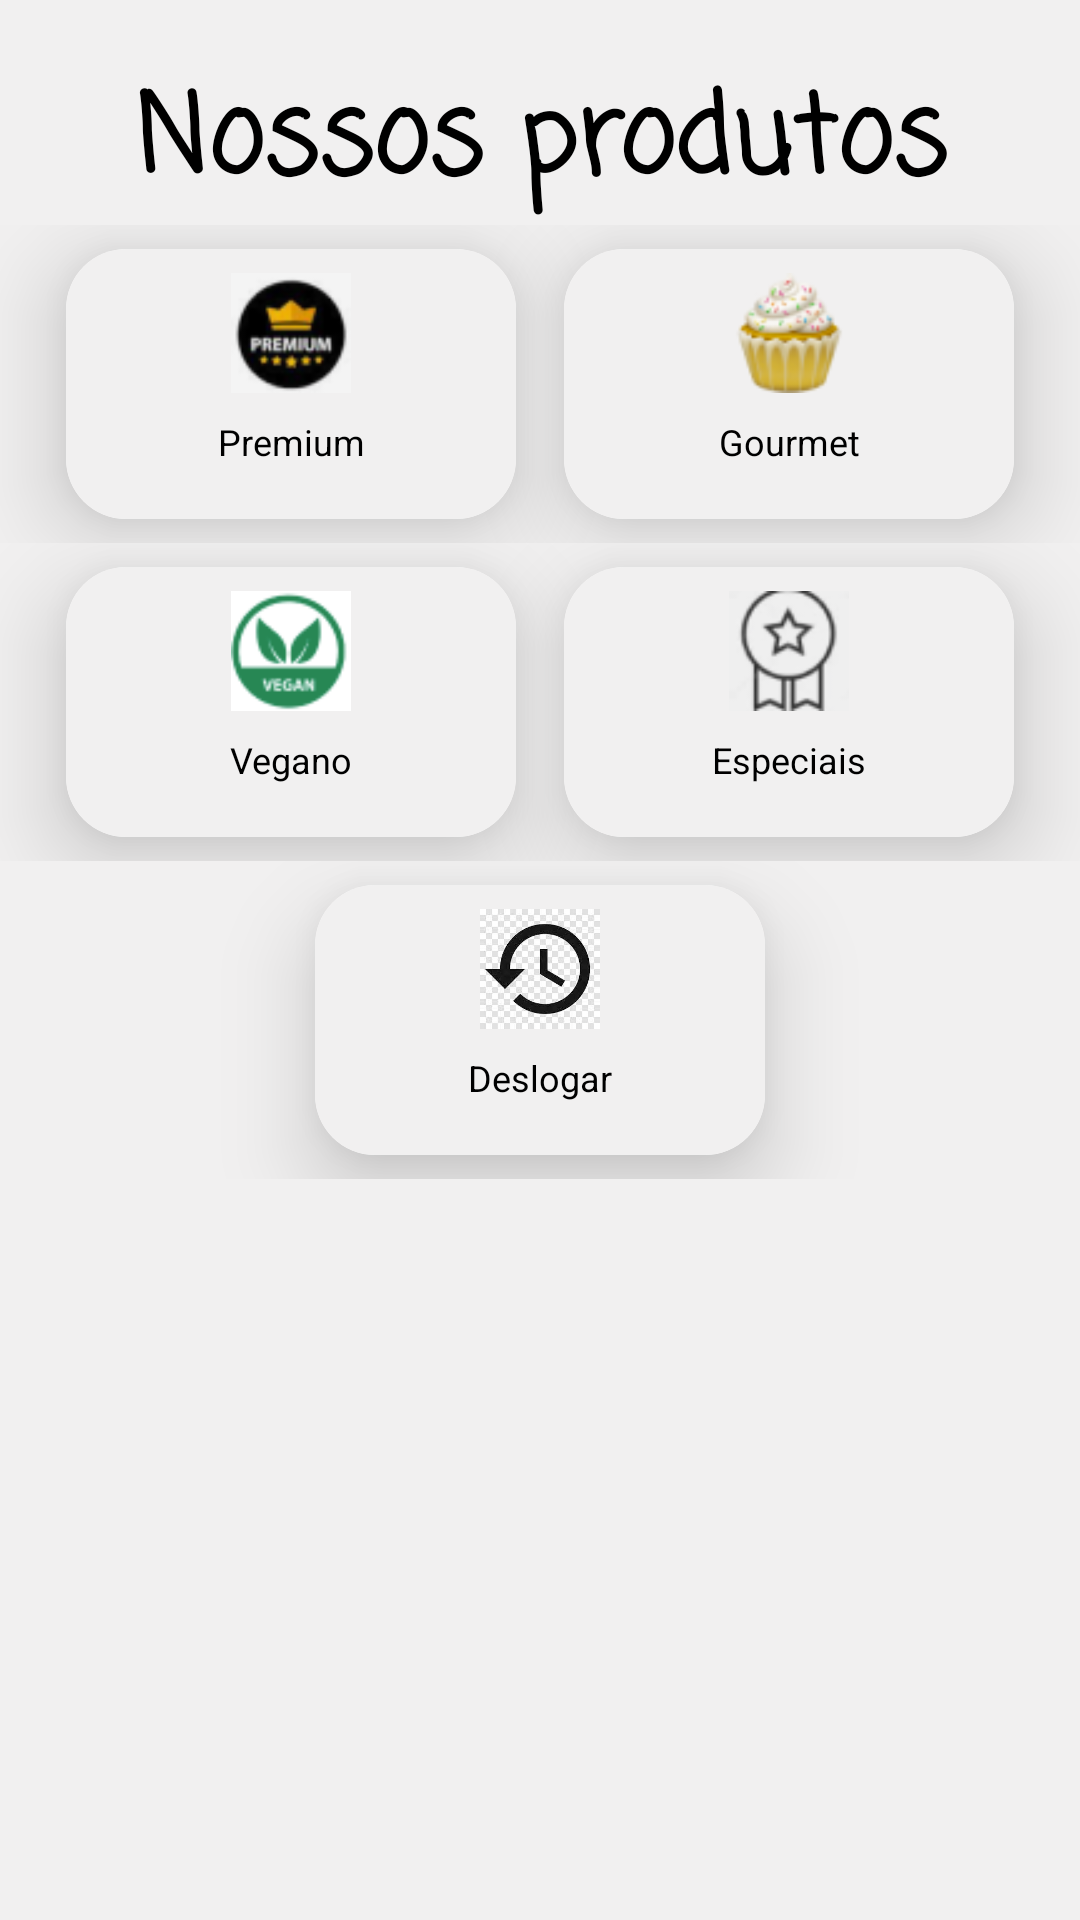

Screen size 1080*1920. Icon name, then its center in pixels as (x,y):
historico: (538,968)
